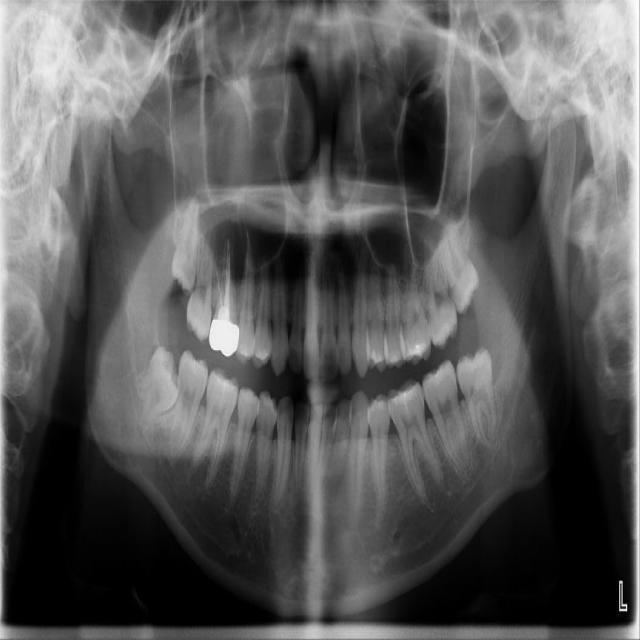Crown: (209, 317, 240, 359)
Filling: (389, 384, 418, 417), (406, 341, 428, 358), (386, 353, 405, 365)
Root Canal Treatment: (217, 266, 224, 312), (225, 237, 229, 313)
impacted tooth: (456, 351, 495, 448), (137, 347, 176, 437), (442, 220, 478, 313), (172, 195, 199, 291)
